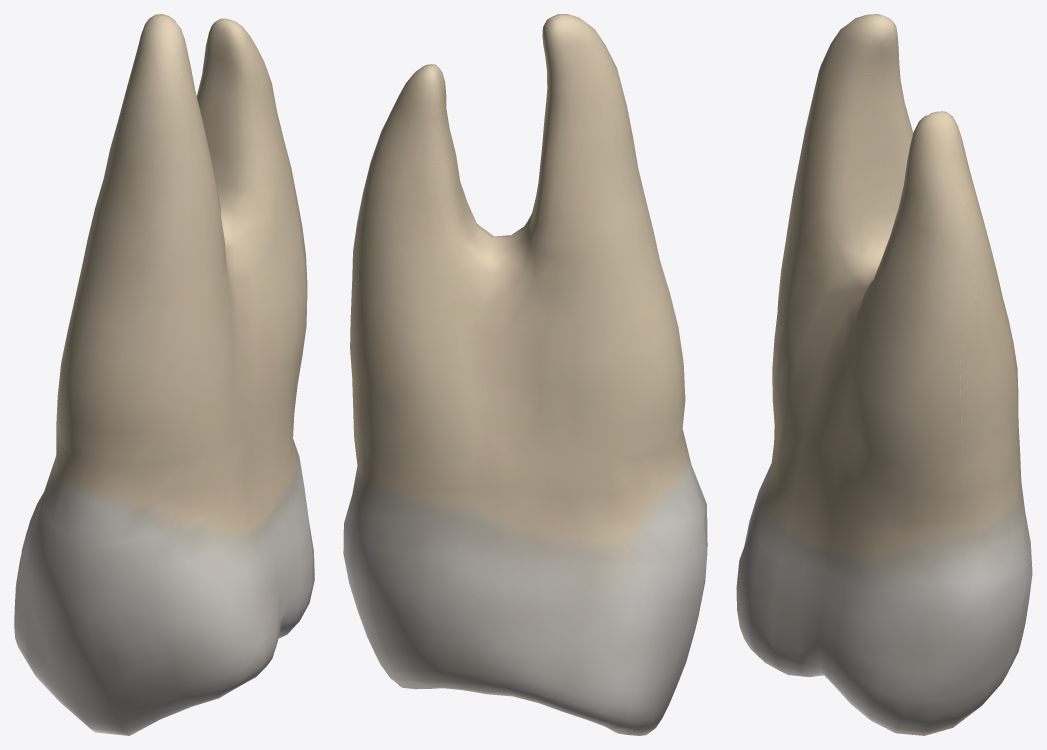
Rendered from tooth-14.glb.
3 renders of one model, left to right at view 1: azimuth 30°, elevation 25°; view 2: azimuth 150°, elevation 25°; view 3: azimuth 270°, elevation 25°, orthographic. The views are drawn at different scales.
Parts seen in each view (by area): view 1: ZBrushPolyMesh3D8_blinn16_0; view 2: ZBrushPolyMesh3D8_blinn16_0; view 3: ZBrushPolyMesh3D8_blinn16_0.
Boxes of the visible parts, left/top/right/bottom form: ZBrushPolyMesh3D8_blinn16_0: left=14, top=14, right=314, bottom=735; ZBrushPolyMesh3D8_blinn16_0: left=343, top=14, right=707, bottom=735; ZBrushPolyMesh3D8_blinn16_0: left=736, top=14, right=1032, bottom=735.
Size of the model in its own units: 0.33 by 0.748 by 0.2907.
Materials: 1 (1 with a texture image).
